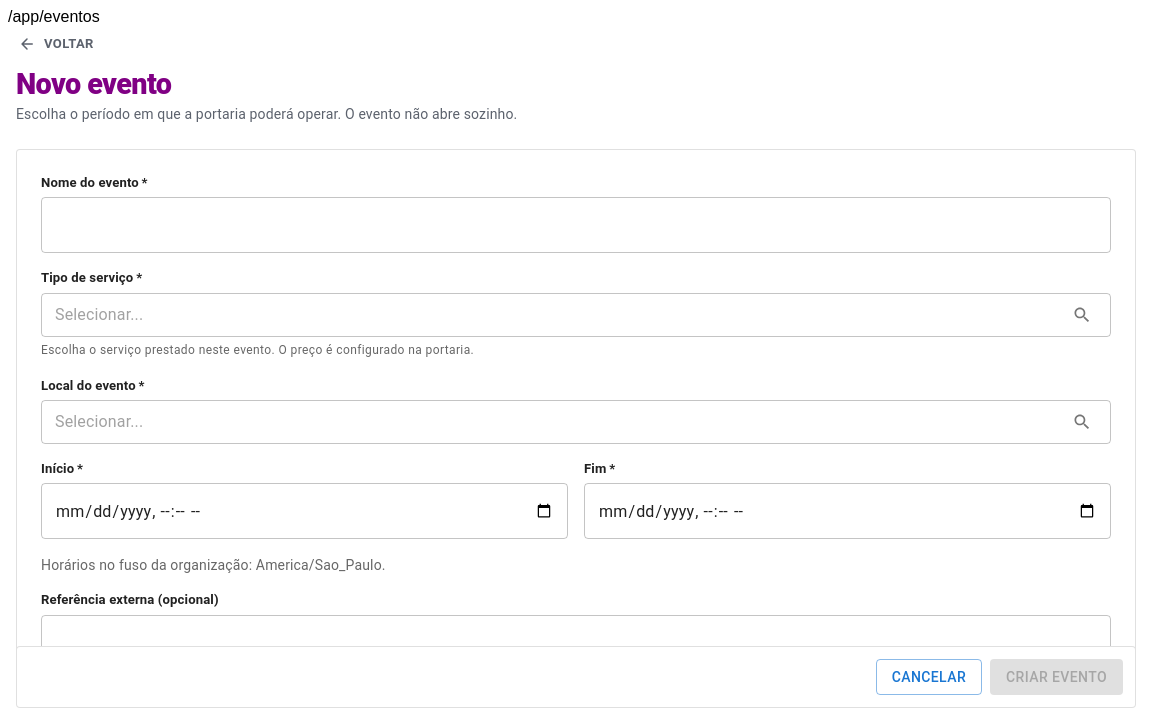
Test: EventsPage › cadastra pelo seletor padrão, atualiza os resultados e só seleciona após um clique
The image size is (1152, 720).
Type "Festival" into the field labelled "Nome do evento".
click(576, 225); type("Festival")  # box [41,197,1111,253]
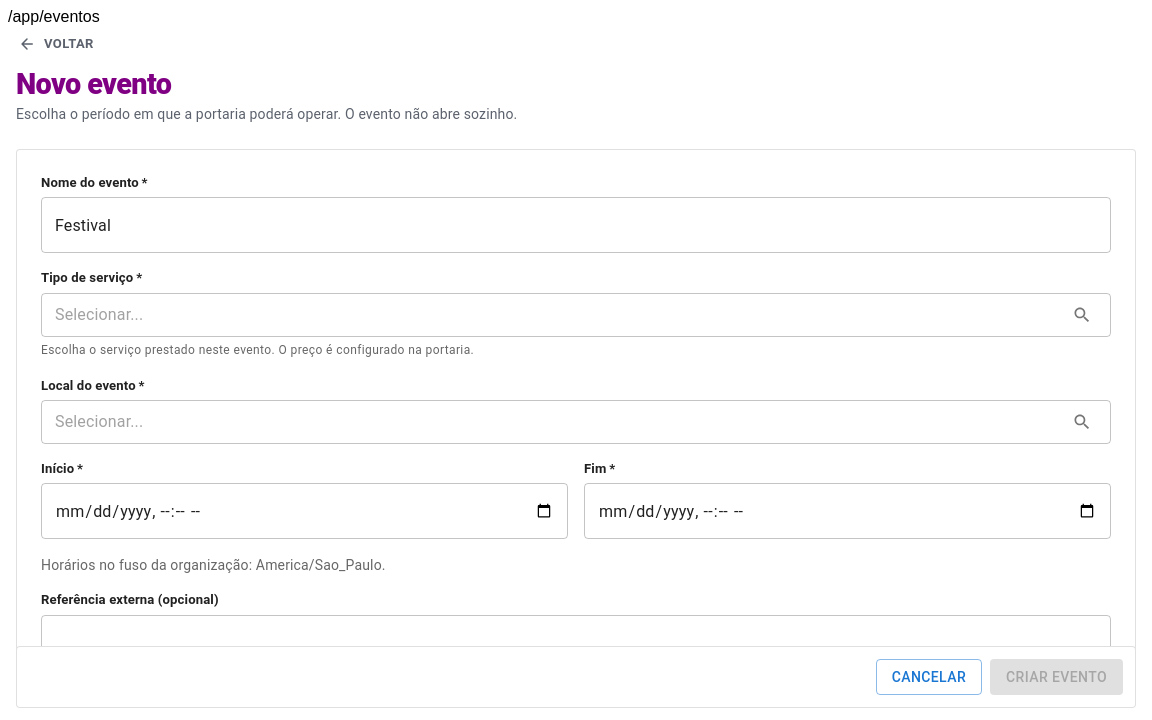
Click the button named "Selecionar tipo de serviço".
click(1082, 315)  # box [1067,300,1097,330]
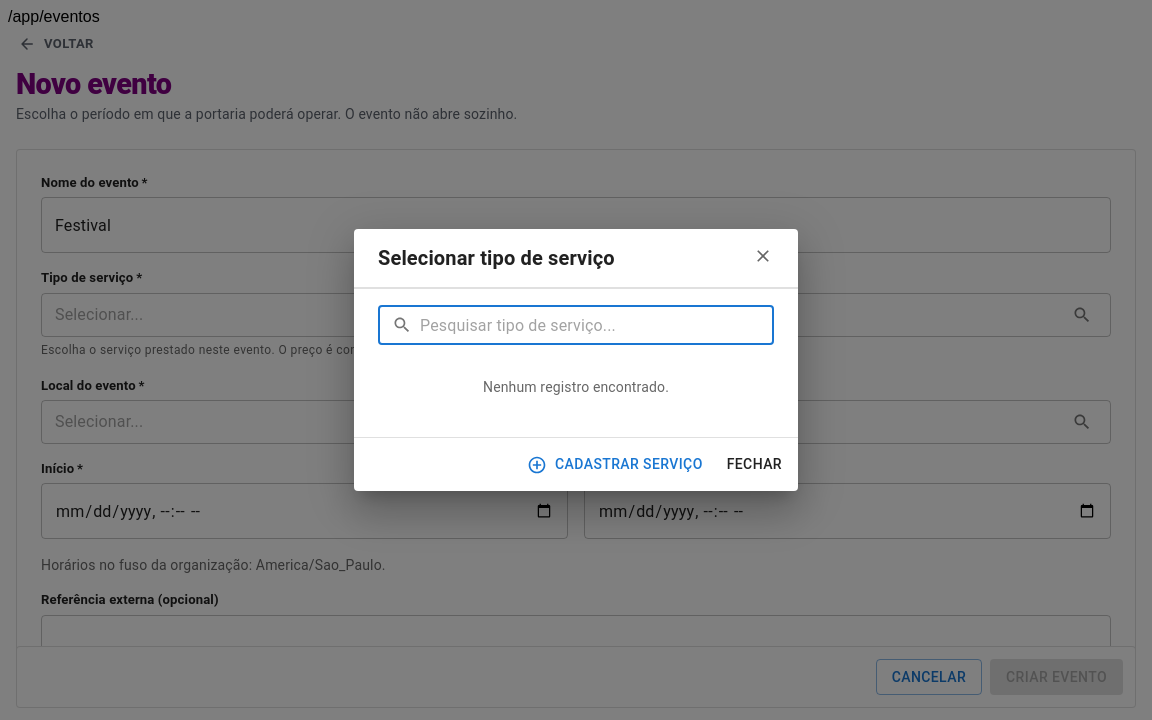
Now the text "Nenhum registro encontrado." is shown, box [483,379,669,395]
Click the button "Cadastrar serviço".
click(617, 465)  # box [523,446,711,483]
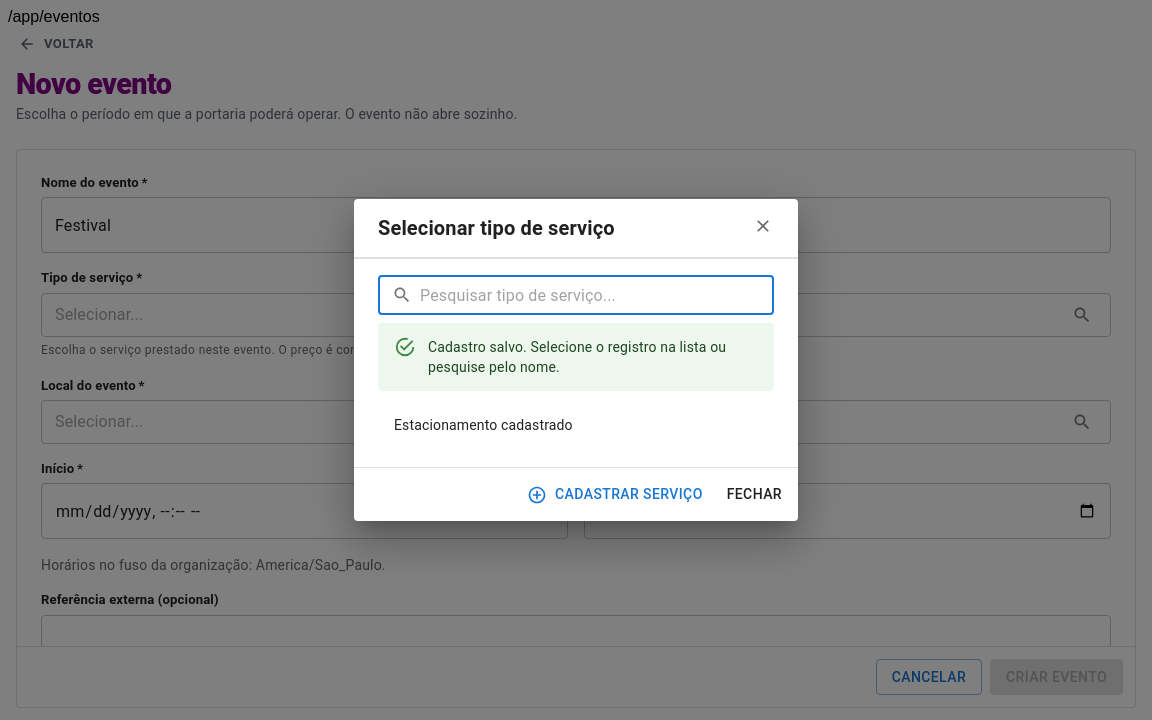
Now the button "Estacionamento cadastrado" is shown, box [394,417,573,433]
Click the button "Fechar".
click(754, 495)  # box [719,476,790,513]
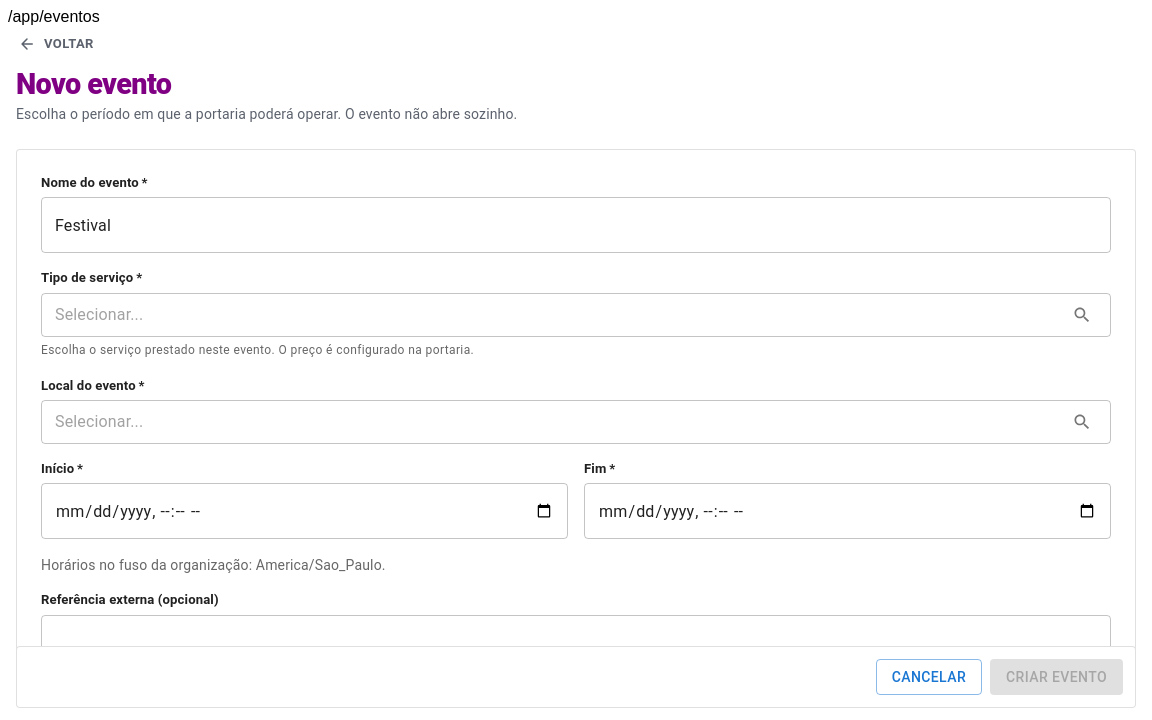
Expected: the field labelled "Tipo de serviço" is empty, [41,295,1059,335]
Click the button named "Selecionar tipo de serviço".
click(1082, 315)  # box [1067,300,1097,330]
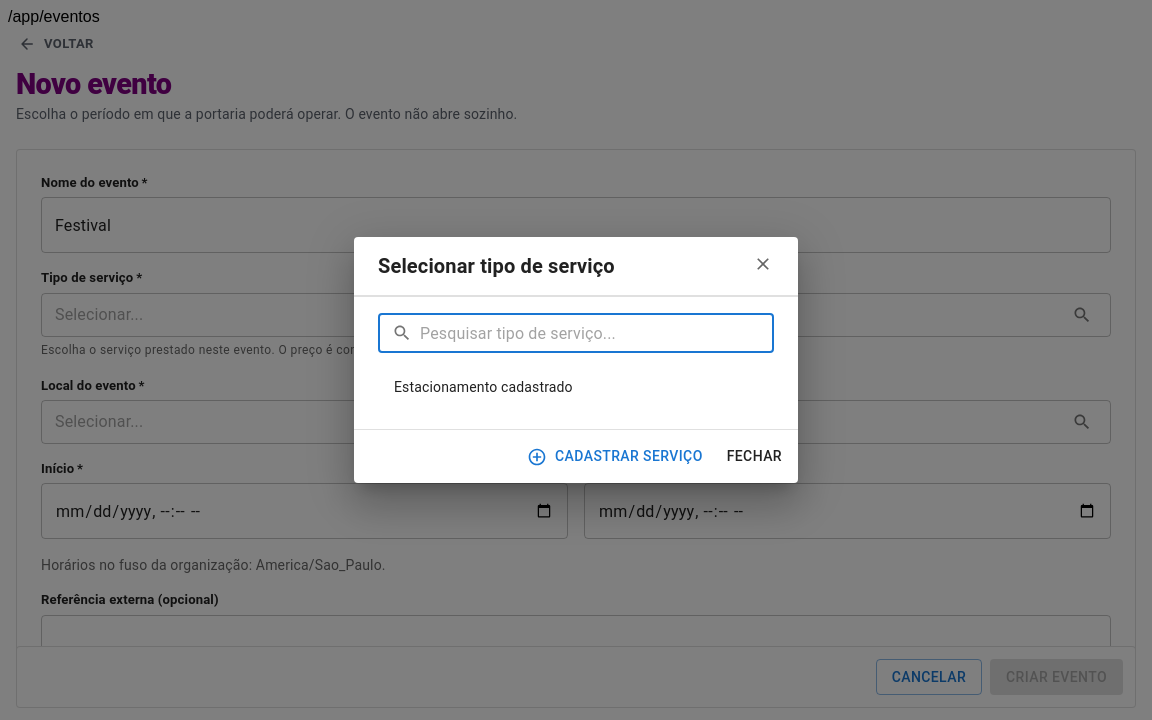
Click the button "Estacionamento cadastrado".
click(483, 387)  # box [394,379,573,395]
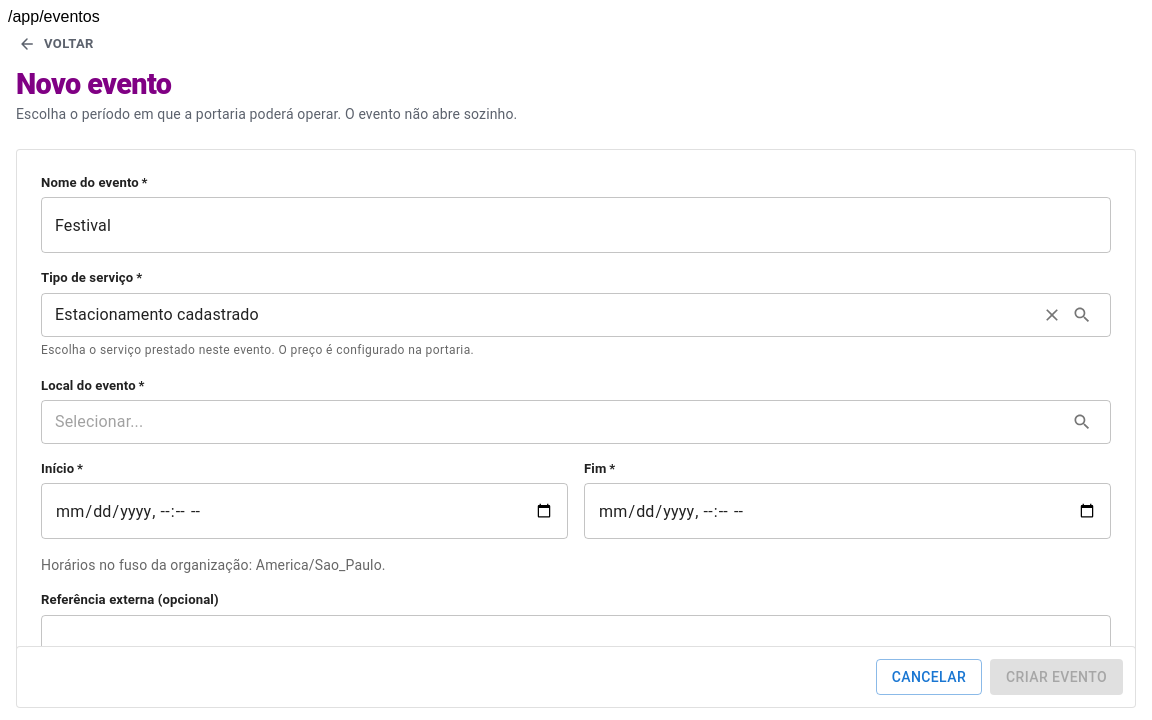
Expected: the button "Criar evento" is disabled, [990,658,1123,695]
Now the field labelled "Tipo de serviço" holds "Estacionamento cadastrado", box [41,295,1029,335]
